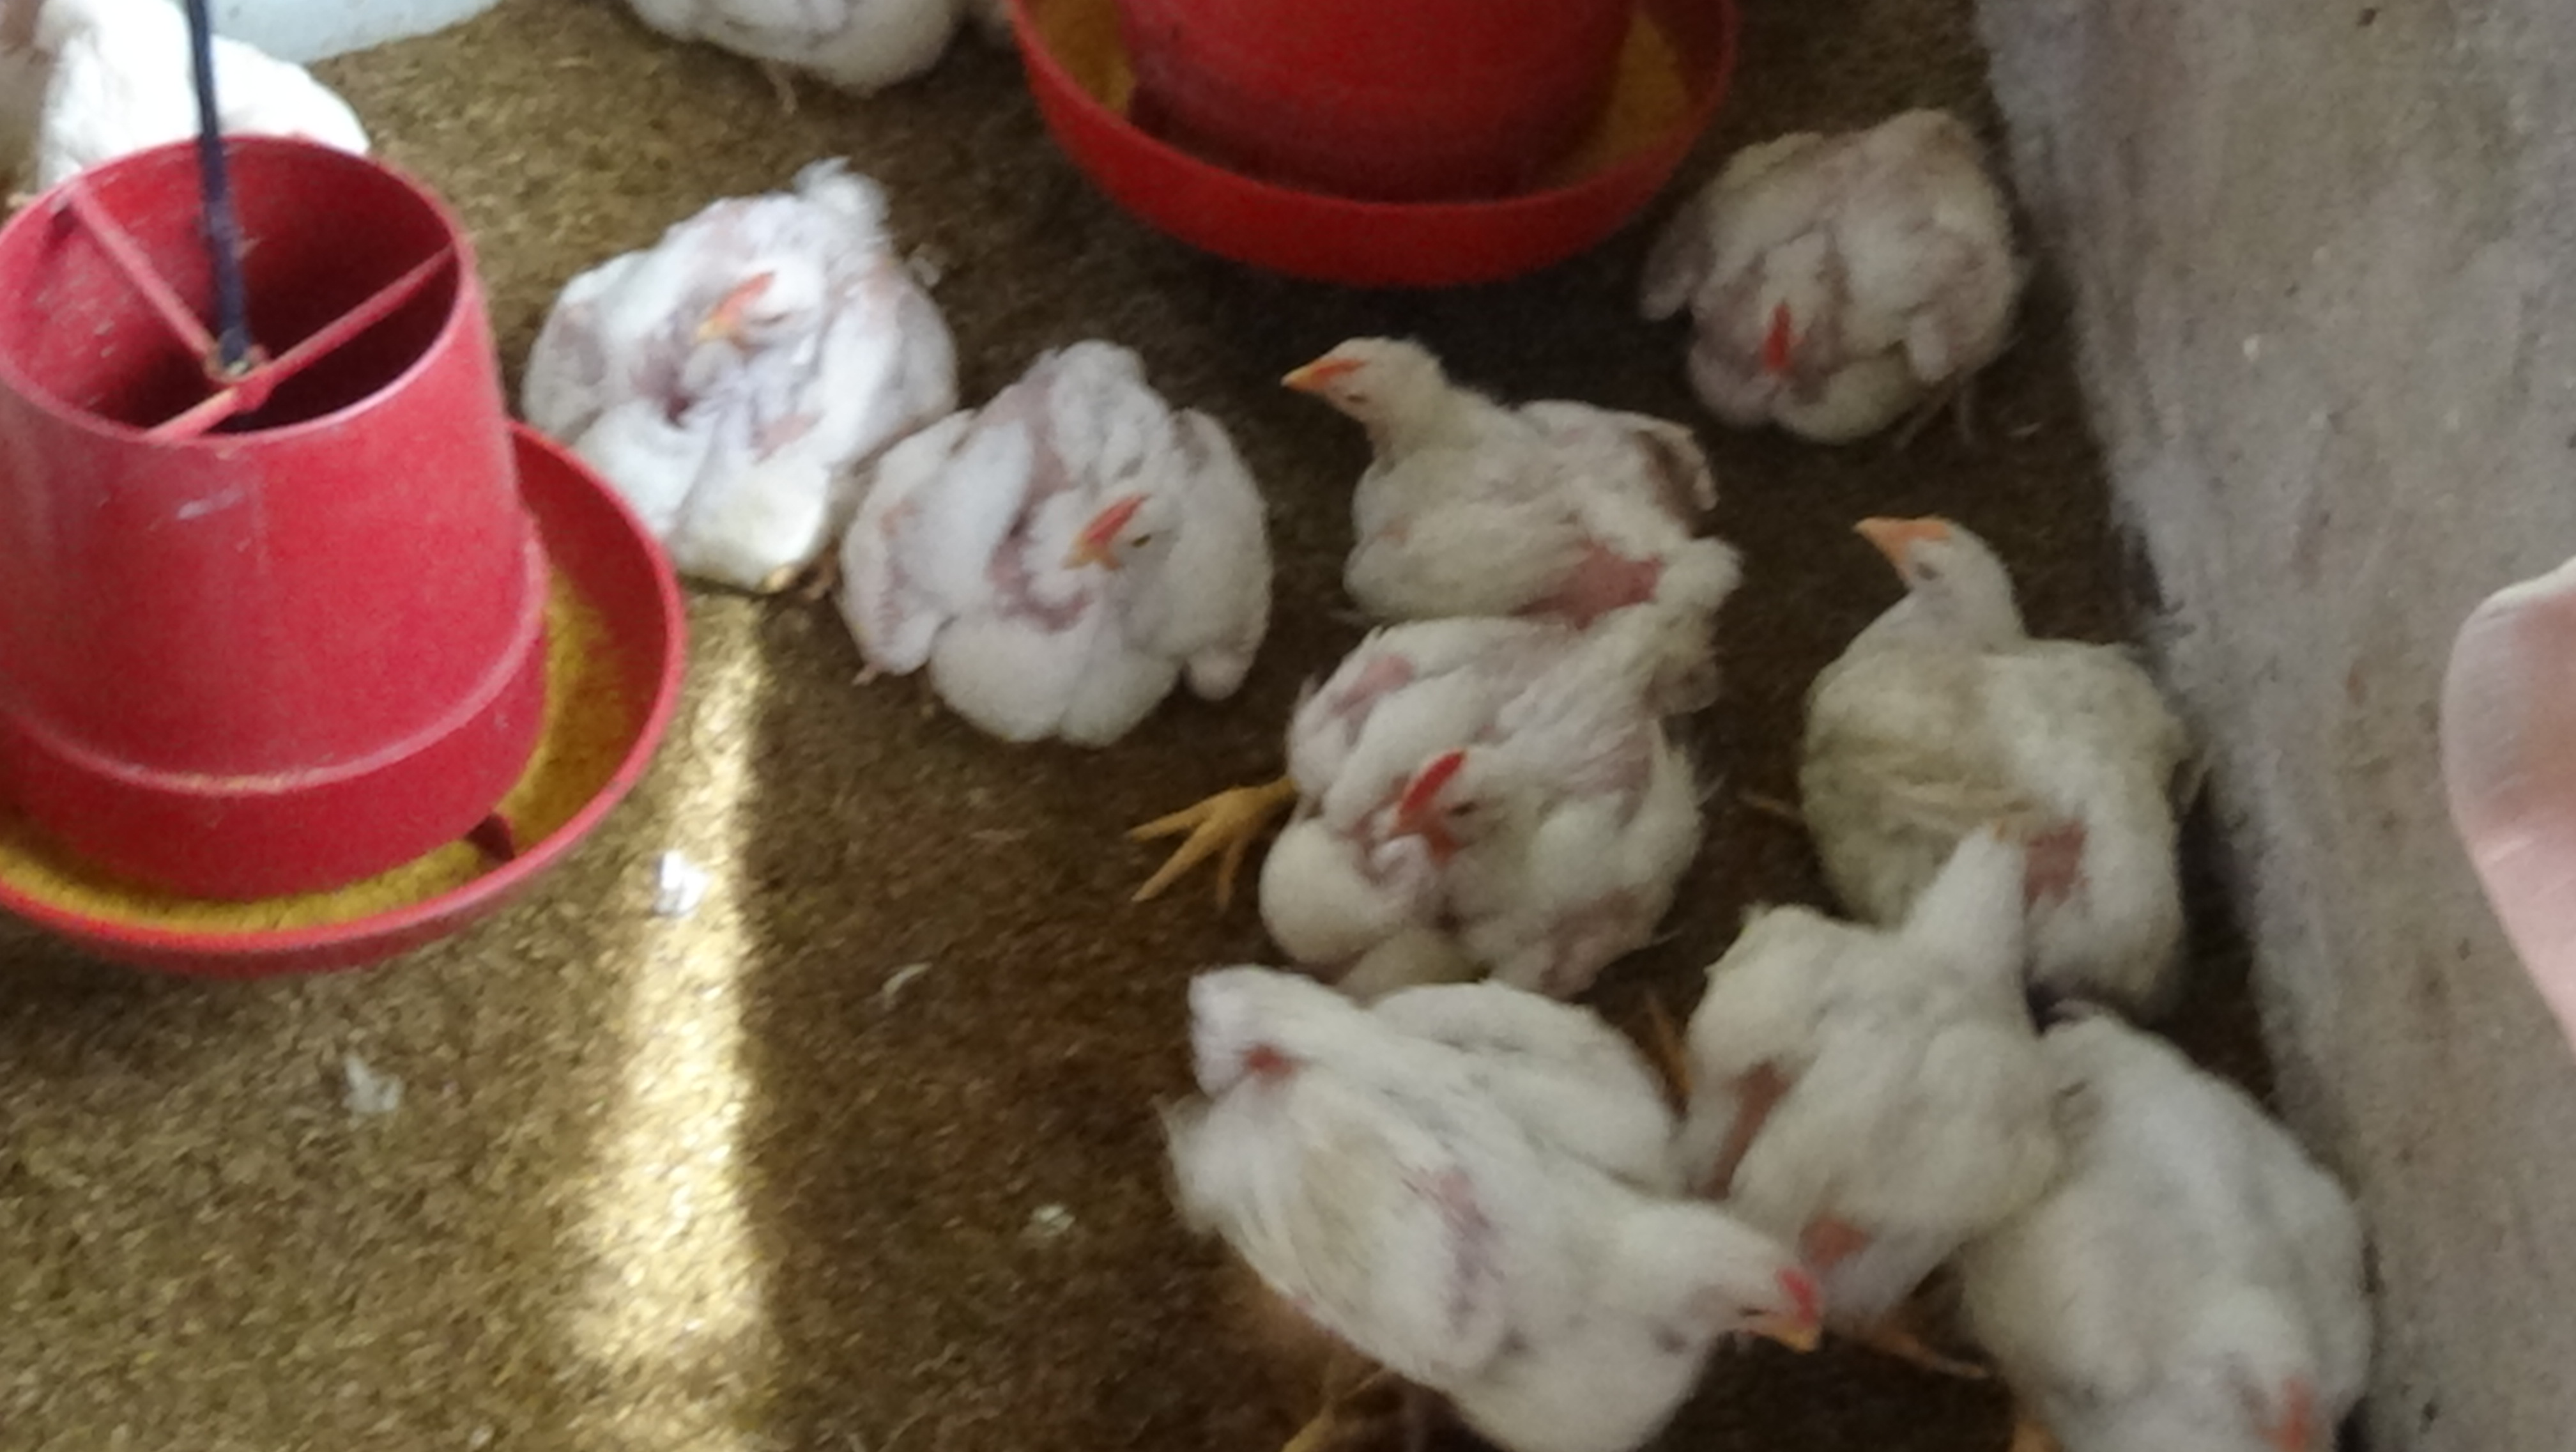Pollos: (1118, 944, 1812, 1452), (1180, 535, 1762, 963), (1769, 498, 2197, 988), (1982, 990, 2406, 1443), (1714, 802, 2066, 1337), (846, 335, 1288, 744), (511, 154, 964, 540), (1638, 94, 2061, 480), (1253, 312, 1757, 632)
